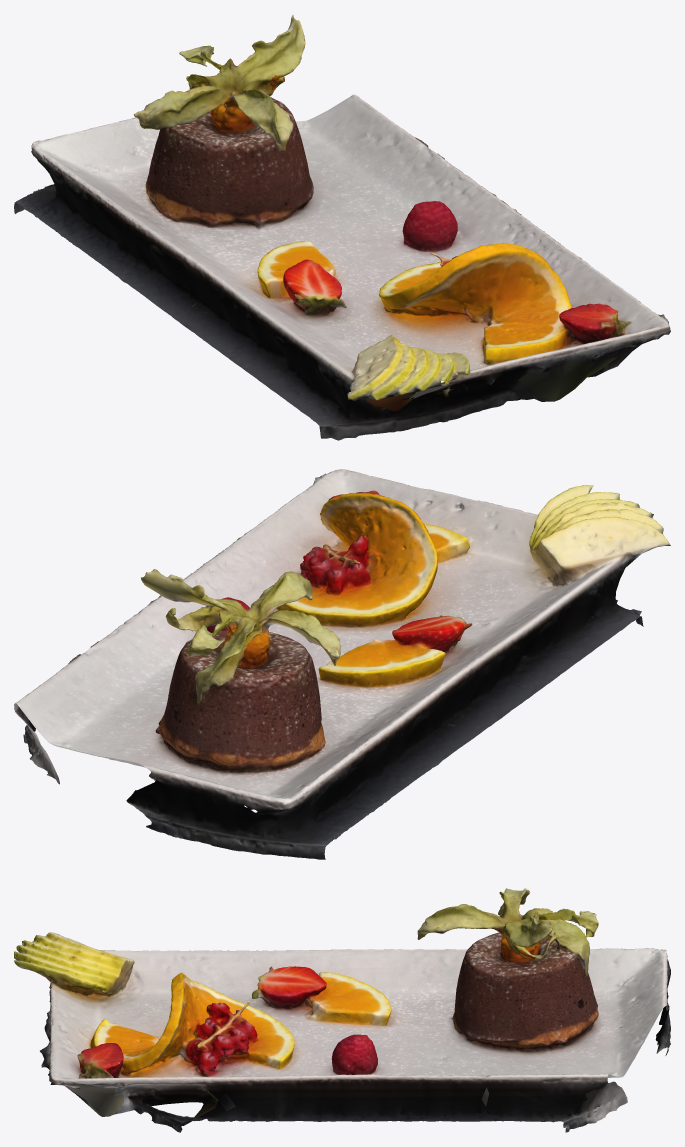
Rendered from objet (2).glb.
3 renders of one model, top to bottom at view 1: azimuth 30°, elevation 25°; view 2: azimuth 150°, elevation 25°; view 3: azimuth 270°, elevation 25°, orthographic. The views are drawn at different scales.
Visible parts, largest first — view 1: Mesh_0_Part_0; view 2: Mesh_0_Part_0; view 3: Mesh_0_Part_0.
Boxes of the visible parts, x1=… form: Mesh_0_Part_0: x1=14, y1=15, x2=670, y2=440; Mesh_0_Part_0: x1=14, y1=469, x2=670, y2=859; Mesh_0_Part_0: x1=14, y1=888, x2=670, y2=1132.
Size of the model in its own units: 0.2297 by 0.1202 by 0.4377.
Materials: 1 (1 with a texture image).
